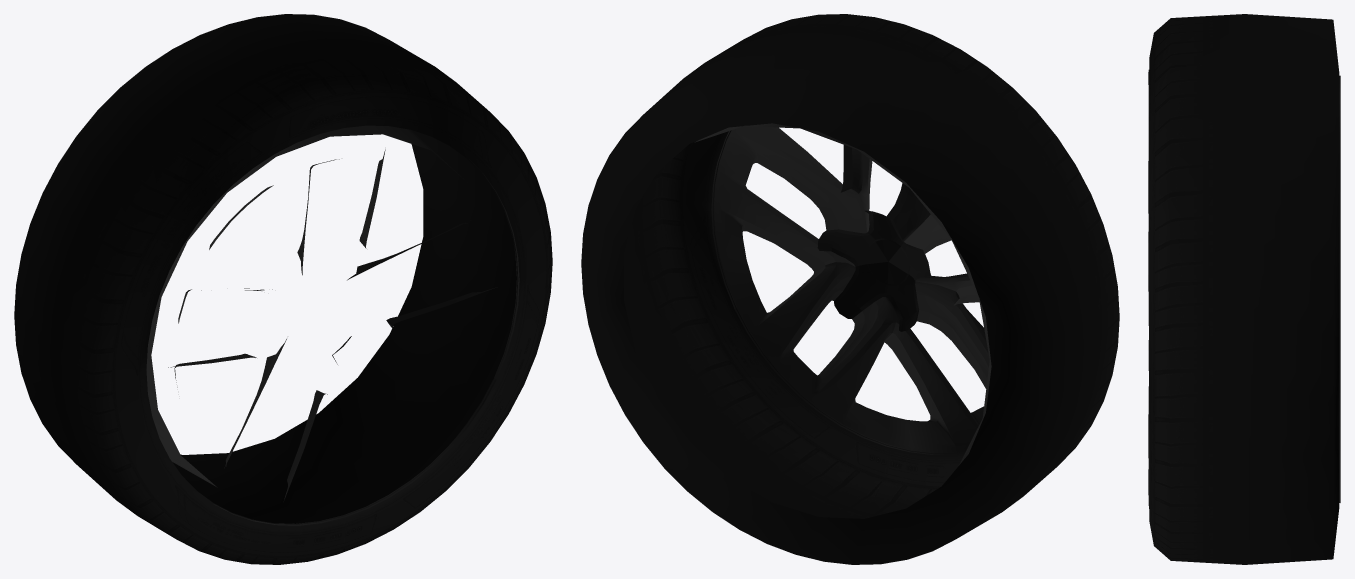
File: Arachnid21.glb
The picture shows the model from 3 angles, left to right: view 1: azimuth 30°, elevation 25°; view 2: azimuth 150°, elevation 25°; view 3: azimuth 270°, elevation 25°; orthographic projection. The views are drawn at different scales.
Parts seen in each view (by area): view 1: Wheel_Arachnid22; view 2: Wheel_Arachnid22; view 3: Wheel_Arachnid22.
Part boxes in pixels (<box>): Wheel_Arachnid22: <box>14,14,552,564</box>; Wheel_Arachnid22: <box>581,14,1119,564</box>; Wheel_Arachnid22: <box>1148,14,1340,564</box>.
Size of the model in its own units: 0.7408 by 0.7393 by 0.2588.
2 materials, 2 textured.
